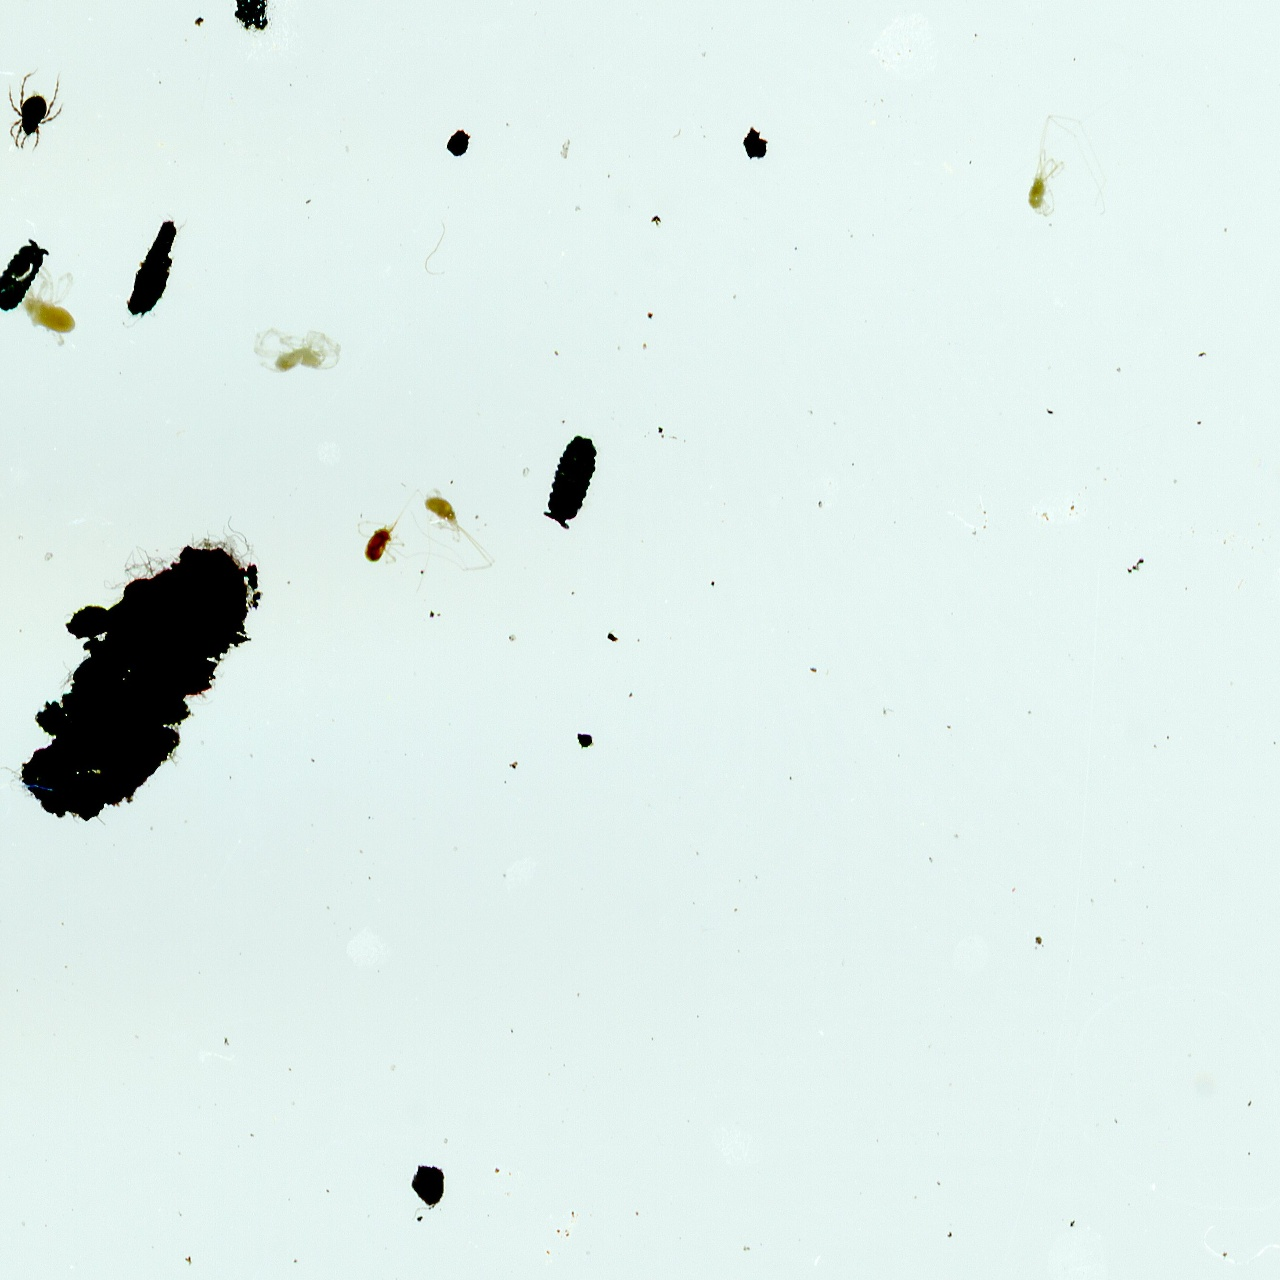arthropod: (382, 483, 498, 594), (1026, 113, 1112, 231), (537, 428, 607, 535), (250, 322, 346, 377), (0, 231, 59, 321), (6, 66, 66, 152), (19, 264, 79, 348), (350, 518, 410, 565)
